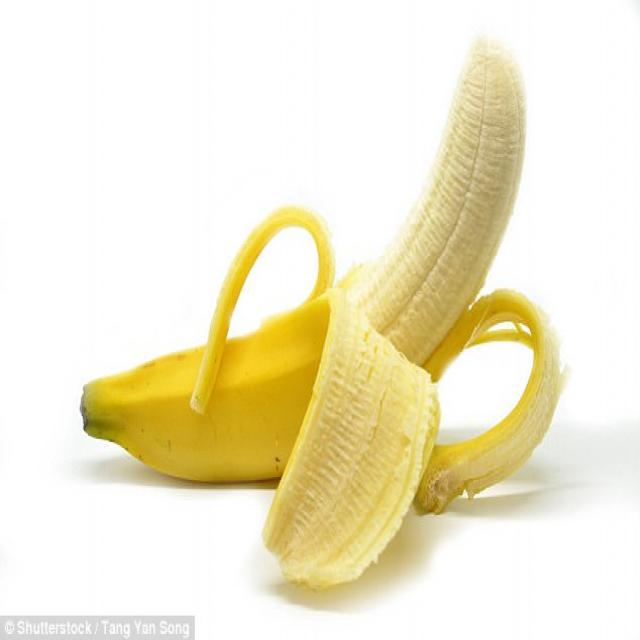banana: (72, 24, 577, 592)
